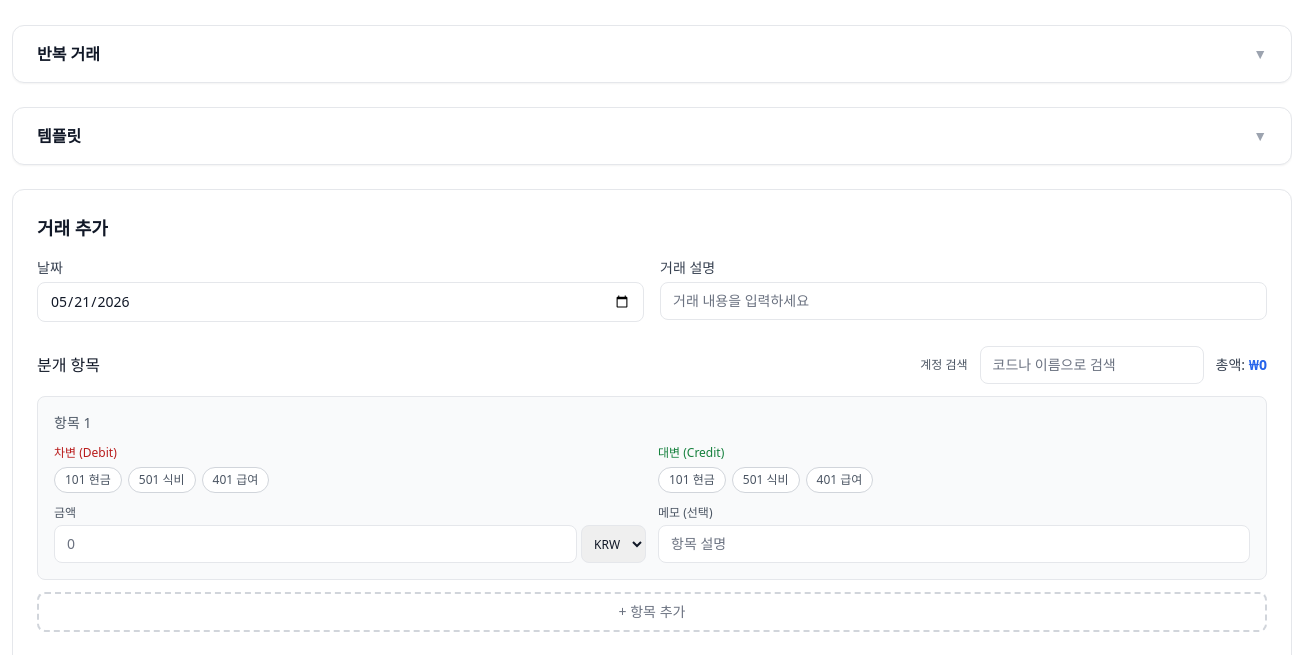
Scenario: TransactionsPage › 같은 차변/대변 계정 시 에러를 표시한다
Expected: the heading "거래 추가" is shown, [37,214,108,242]
# 차변에서 현금 선택
Click the button "101 현금" below "차변 (Debit)". click: coordinates (88, 480)
box: [54,467,122,493]
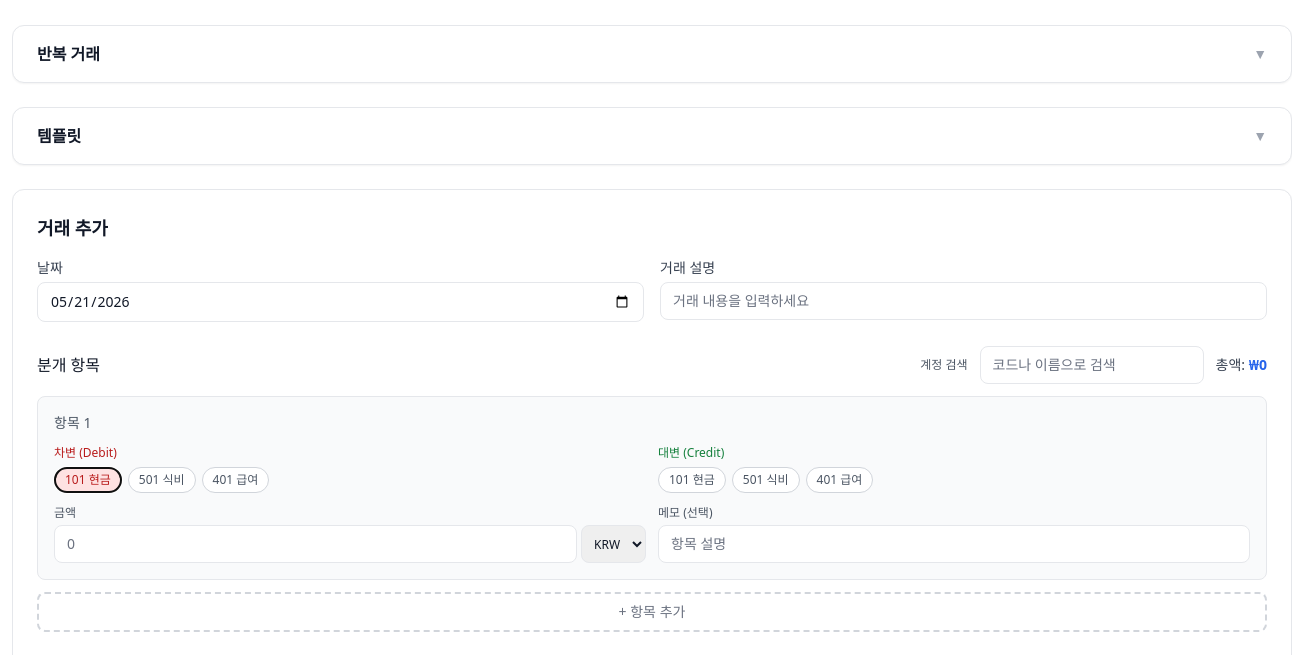
# 대변에서도 현금 선택
Click the button "101 현금" below "대변 (Credit)". click: coordinates (692, 480)
box: [658,467,726,493]
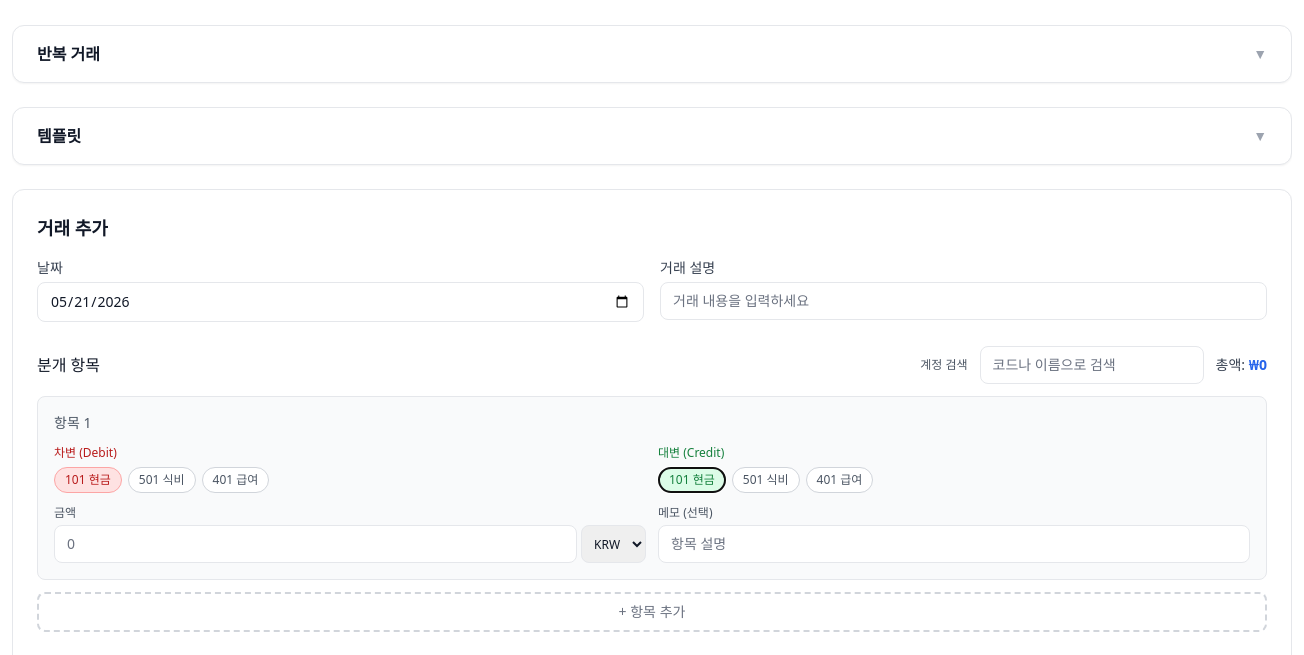
Type "10000" into the number field with placeholder "0". click: coordinates (316, 544)
box: [54,525,577,563]
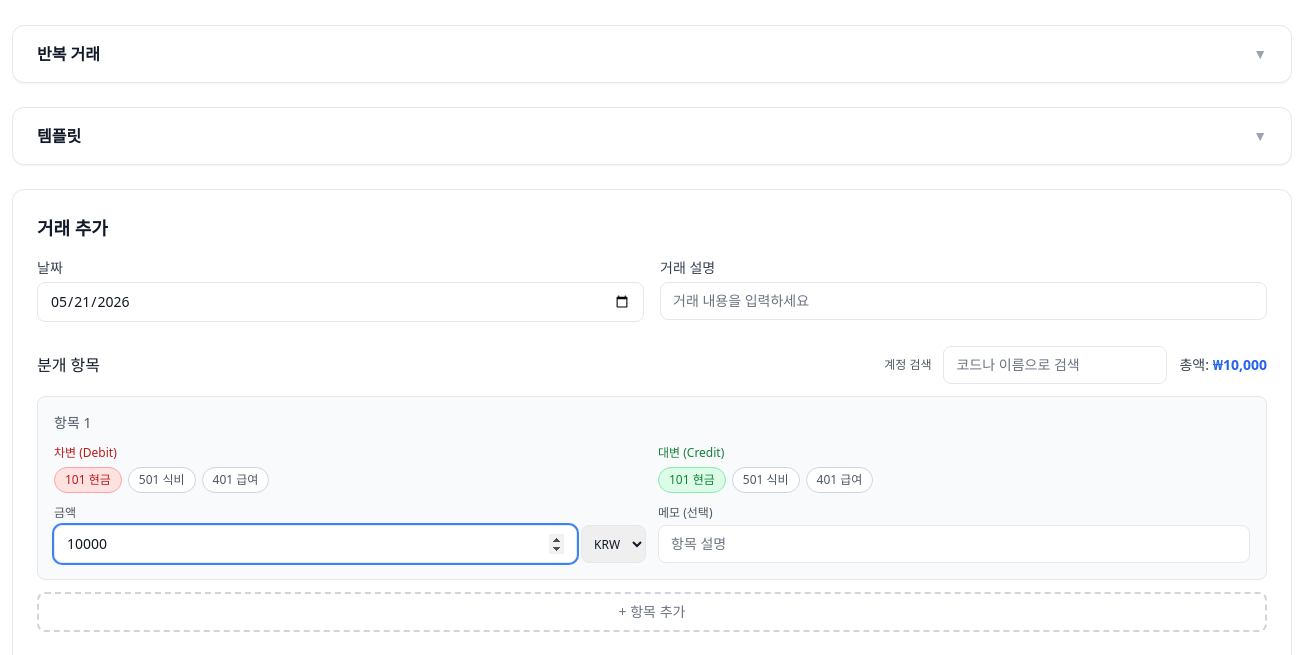
# 날짜와 설명 입력
Type "테스트 거래" into the field with placeholder "거래 내용을 입력하세요". click: coordinates (964, 301)
box: [660,282,1267,320]
(page scrolled)
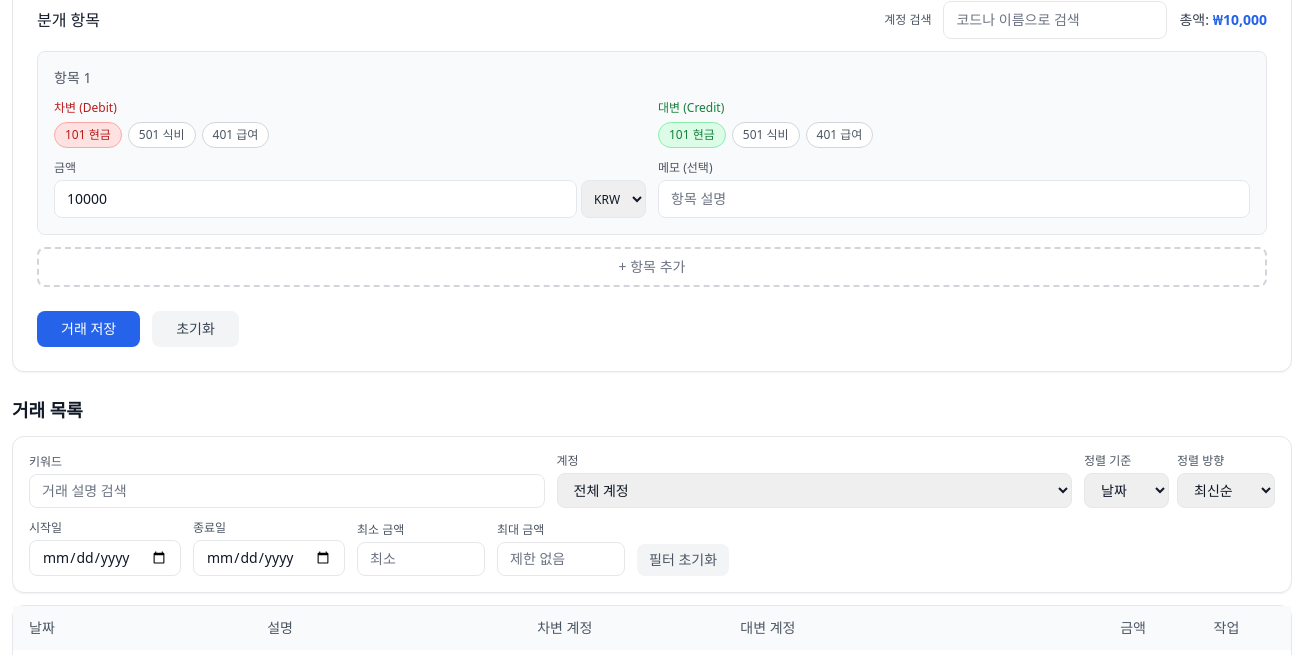
Click the button "거래 저장". click: coordinates (89, 329)
box: [37,311,140,347]
(page scrolled)
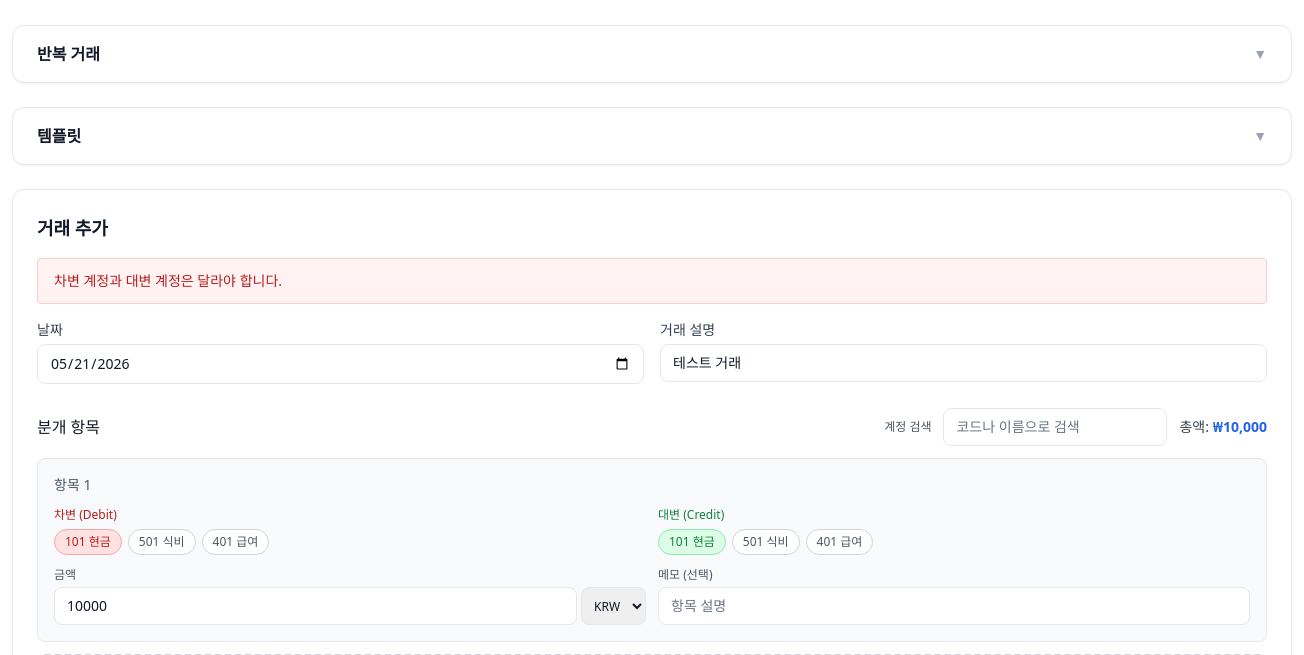
Result: the text "차변 계정과 대변 계정은 달라야 합니다." is shown at [37,258,1267,304]
